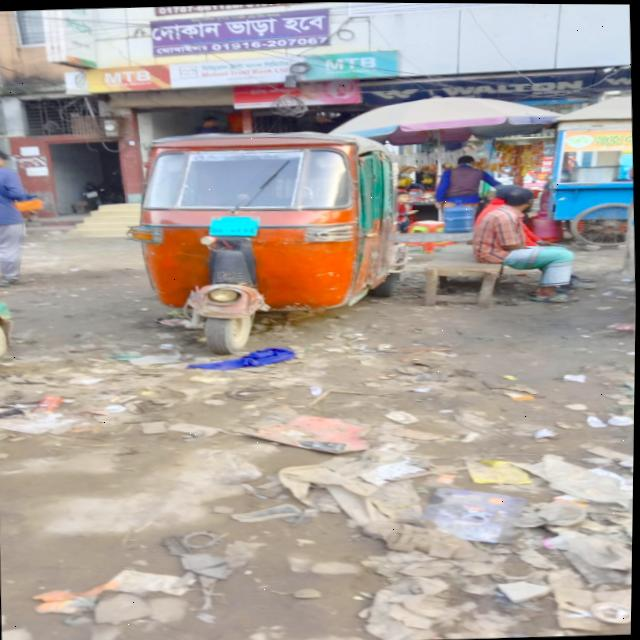cng: (97, 104, 438, 409)
